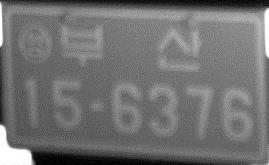-: (86, 100, 107, 114)
1: (19, 76, 44, 130)
3: (146, 85, 180, 138)
5: (49, 79, 82, 131)
6: (221, 86, 255, 144), (111, 80, 144, 137)
7: (184, 86, 216, 141)
부산_D: (58, 21, 203, 72)
영: (17, 21, 54, 67)
